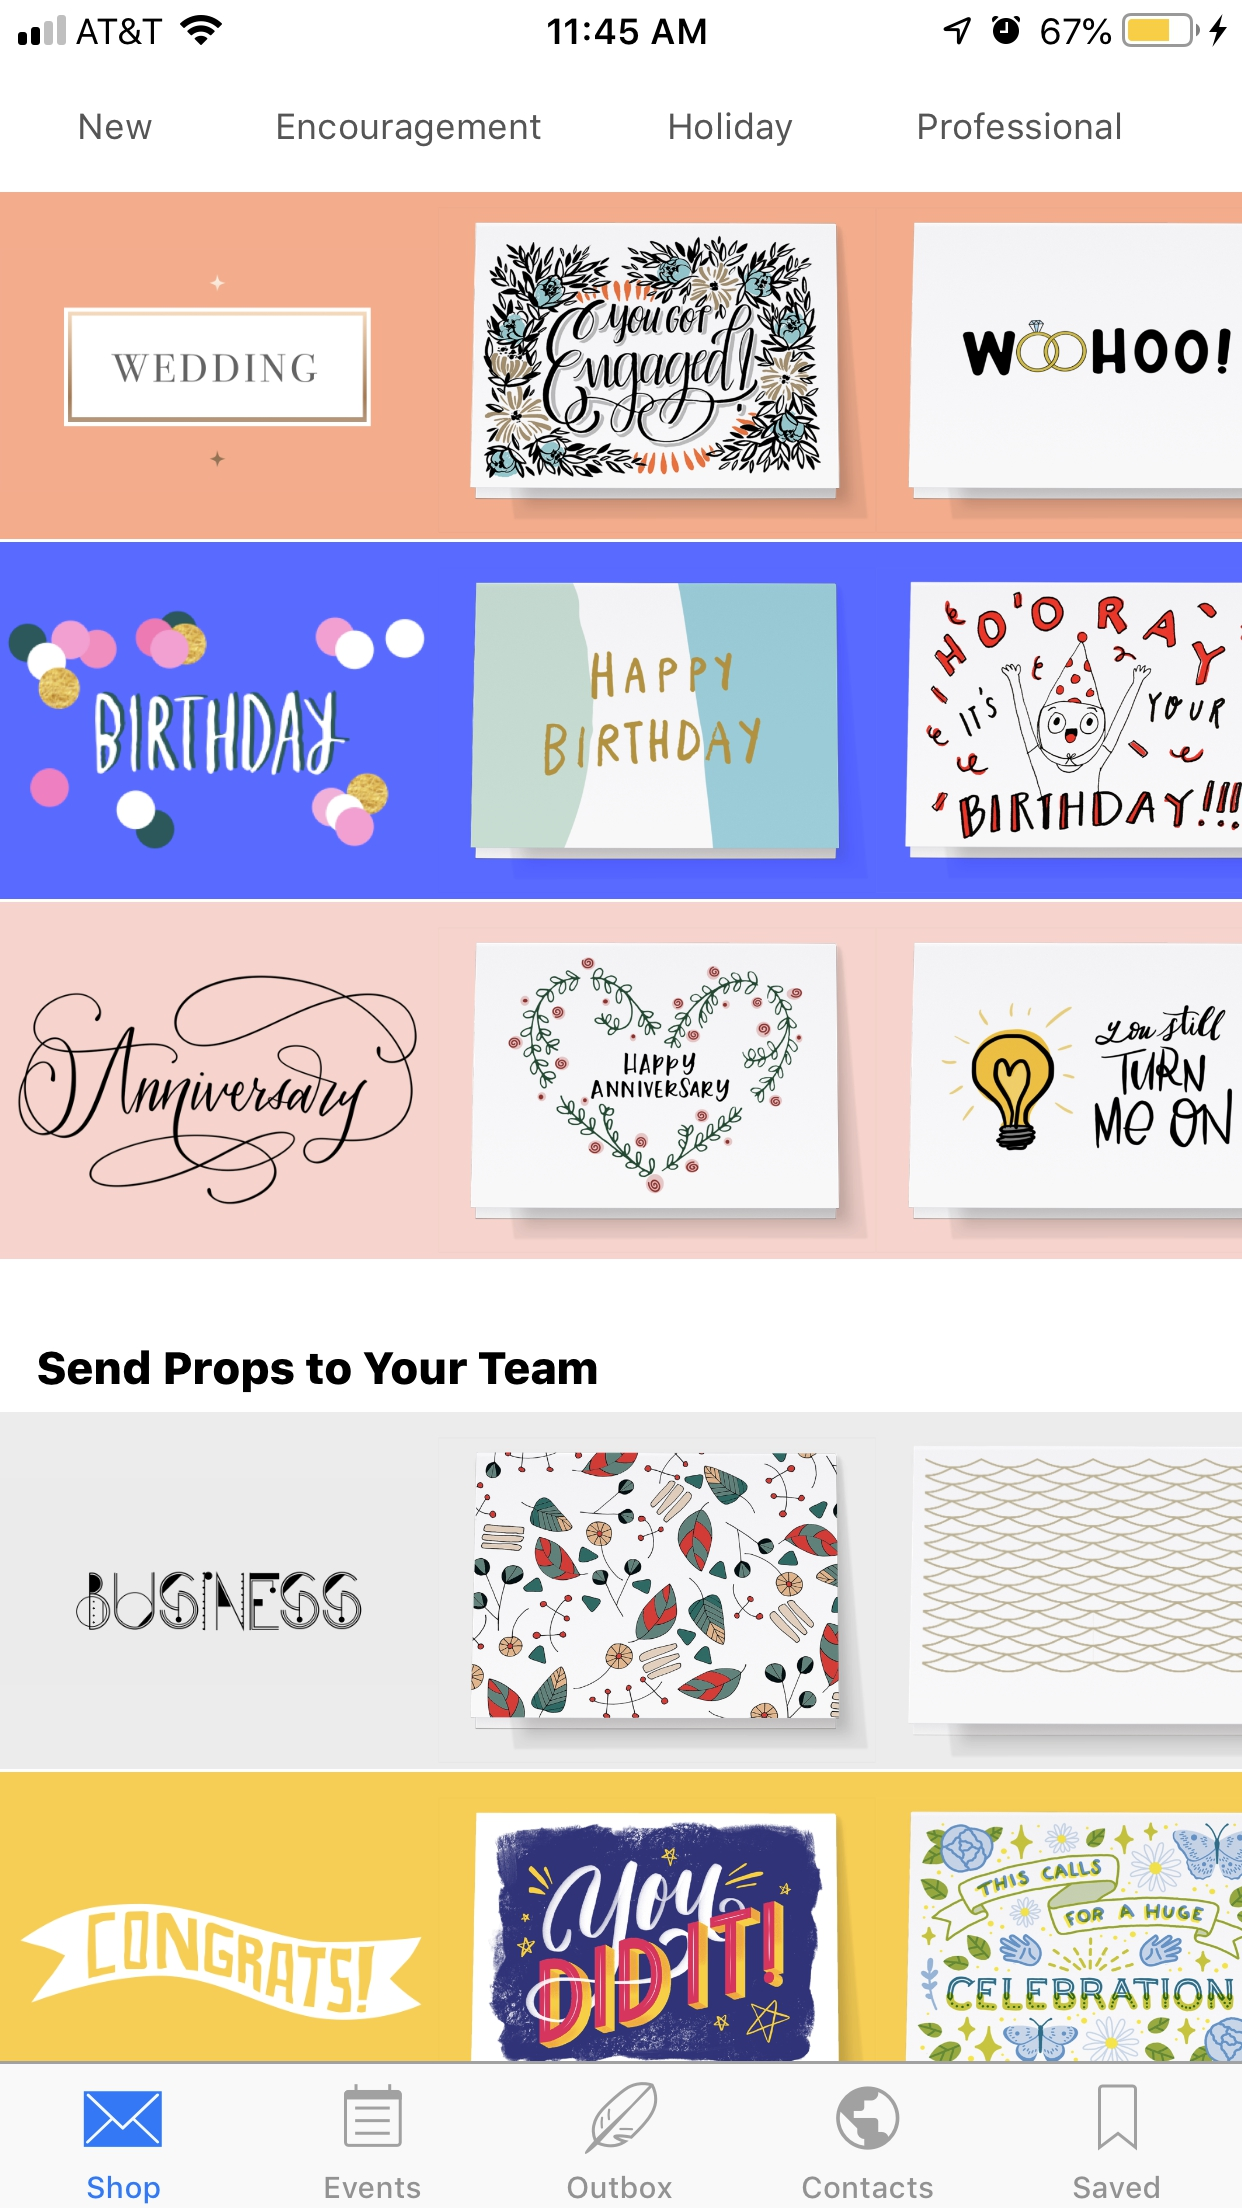Icon: (83, 2090, 164, 2147), (346, 2084, 403, 2147), (1098, 2084, 1137, 2150)
Image: (469, 1451, 840, 1730), (470, 582, 842, 858), (470, 223, 842, 499), (472, 943, 842, 1219), (8, 610, 425, 851), (908, 1447, 1242, 1736), (905, 582, 1242, 858), (20, 974, 419, 1206), (908, 943, 1242, 1219), (472, 1812, 840, 2061), (908, 224, 1242, 499), (905, 1811, 1242, 2061), (21, 1905, 423, 2021), (65, 309, 372, 428), (76, 1571, 362, 1632), (585, 2081, 660, 2153), (836, 2087, 899, 2150)
Text: (38, 1350, 597, 1394), (278, 114, 541, 149), (919, 112, 1121, 141), (670, 112, 795, 147), (804, 2175, 933, 2199), (569, 2175, 673, 2199), (88, 2175, 162, 2205), (1074, 2175, 1160, 2200), (325, 2176, 422, 2199), (80, 114, 153, 141)
UpperTaskBar: (2, 2, 1242, 49)
